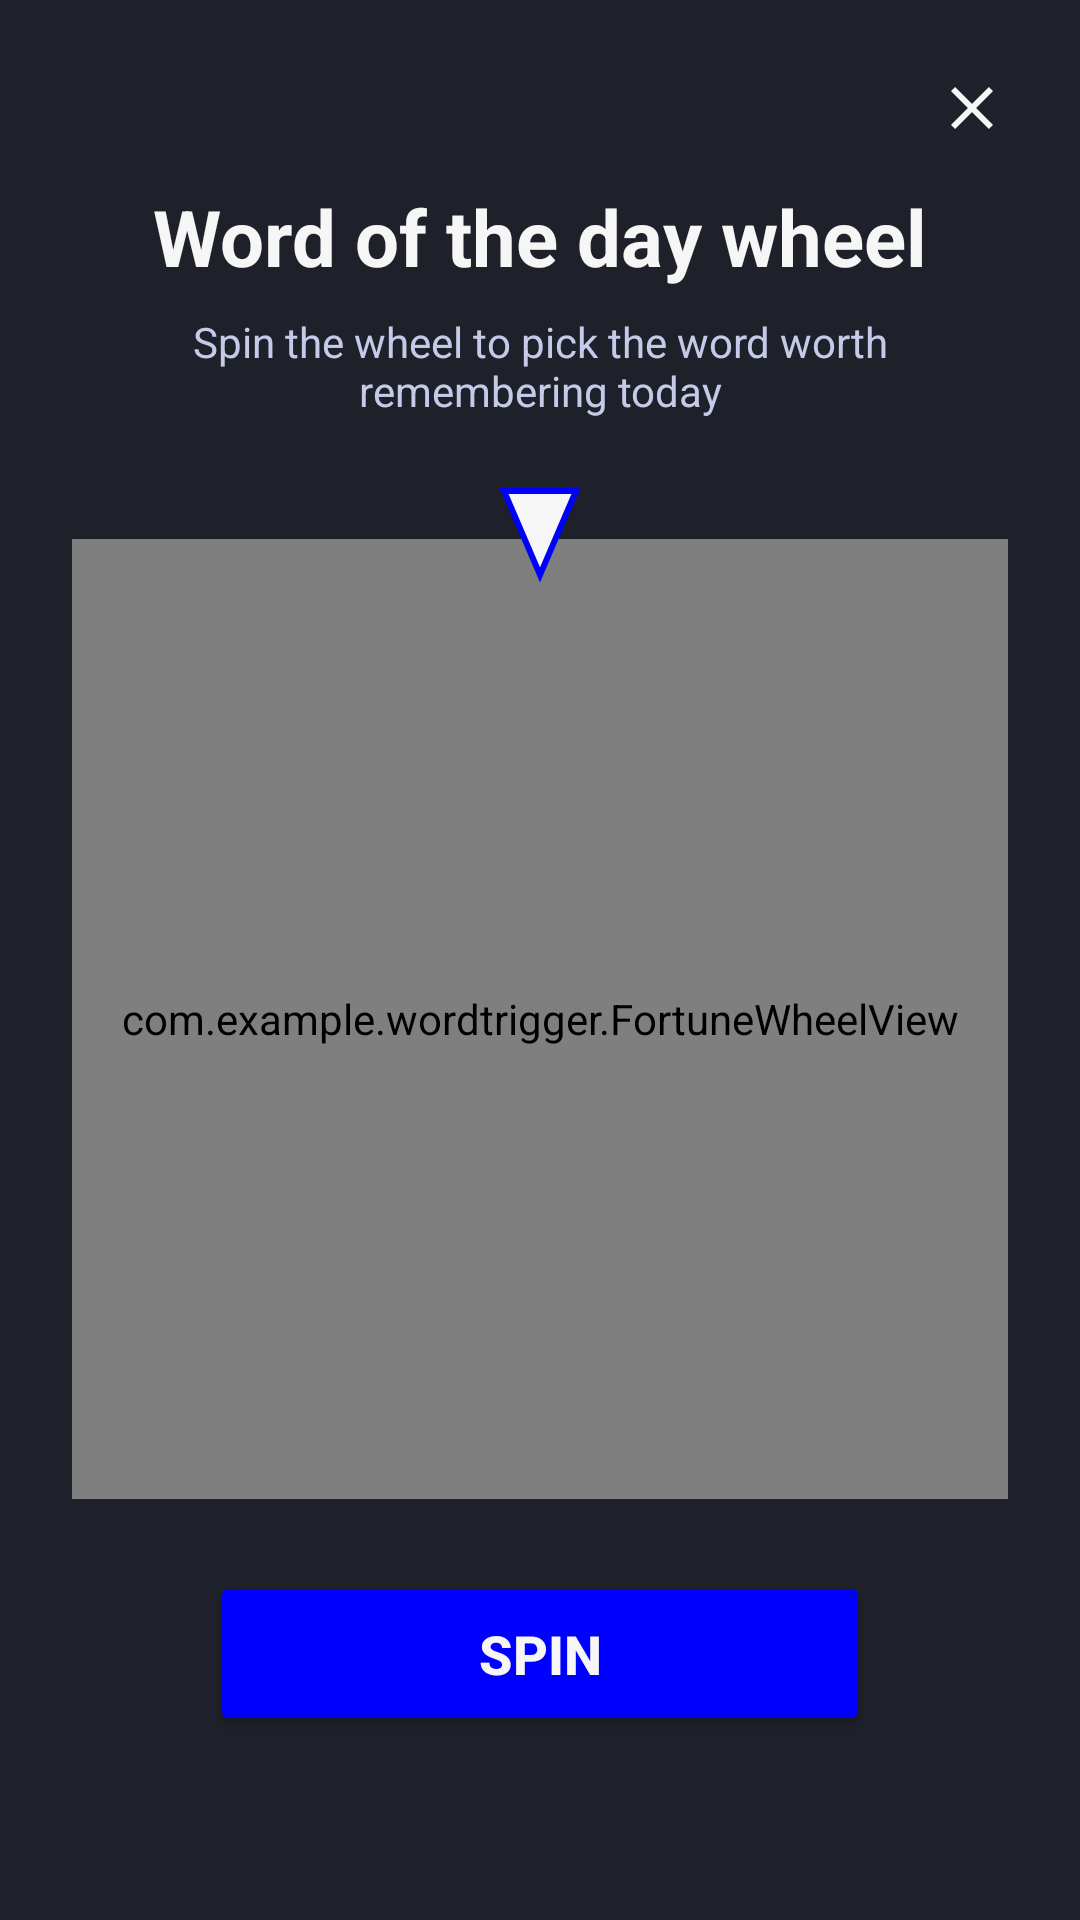

Screen size 1080*1920. Icon name, then its center in pixels as [x,y]:
Close: [972,108]
wheel pointer: [540,533]
